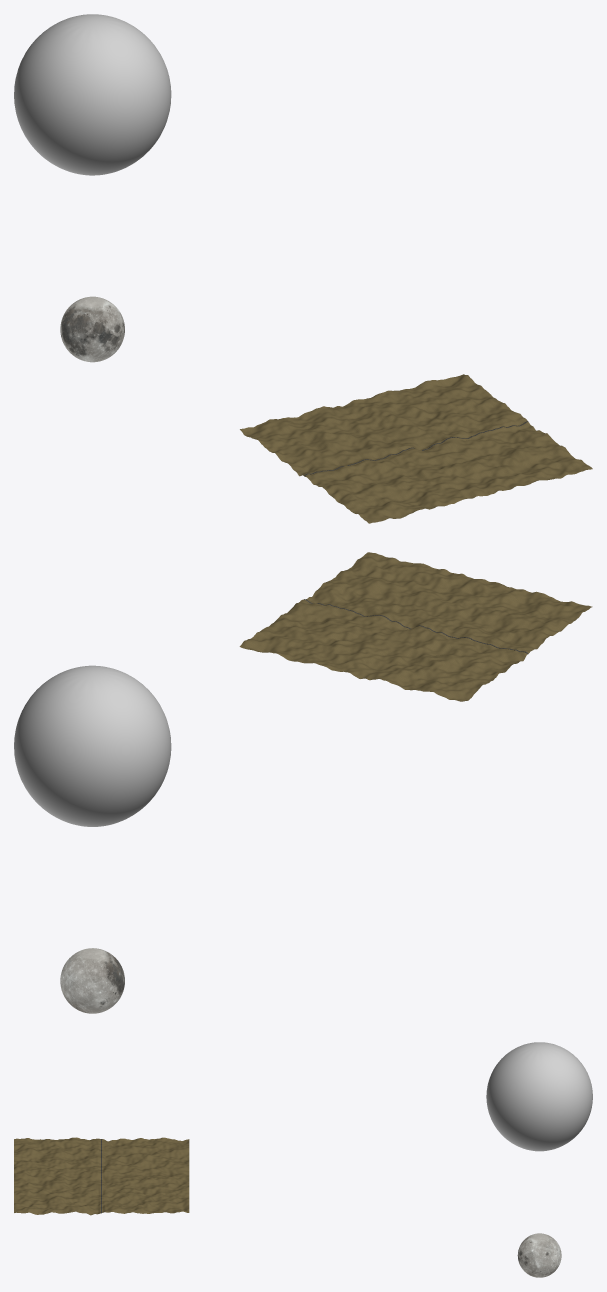
Rendered from map2.gltf.
The picture shows the model from 3 angles, top to bottom: view 1: azimuth 30°, elevation 25°; view 2: azimuth 150°, elevation 25°; view 3: azimuth 270°, elevation 25°; orthographic projection. The views are drawn at different scales.
Visible parts, largest first — view 1: Terrain_RigidBody, Sun, Moon; view 2: Terrain_RigidBody, Sun, Moon; view 3: Terrain_RigidBody, Sun, Moon.
Boxes of the visible parts, box(x1,y1,x2,y2) form: Terrain_RigidBody: box(240, 374, 592, 523); Sun: box(14, 14, 171, 175); Moon: box(60, 296, 124, 362); Terrain_RigidBody: box(239, 552, 592, 701); Sun: box(14, 665, 171, 826); Moon: box(60, 948, 124, 1013); Terrain_RigidBody: box(14, 1137, 189, 1215); Sun: box(486, 1042, 592, 1151); Moon: box(517, 1233, 561, 1277).
Size of the model in its own units: 1000 by 1443 by 3304.
